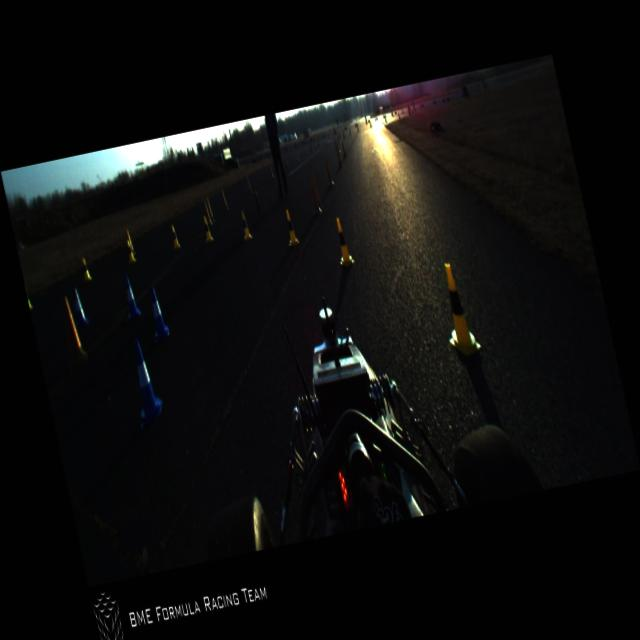blue_cone: (122, 338, 166, 426), (144, 284, 170, 339), (118, 274, 143, 322), (69, 288, 89, 328)
yellow_cone: (433, 260, 482, 360), (330, 215, 356, 270), (282, 208, 299, 246), (238, 208, 252, 240), (200, 213, 214, 242), (79, 255, 92, 282), (168, 223, 180, 249), (124, 238, 136, 264)
